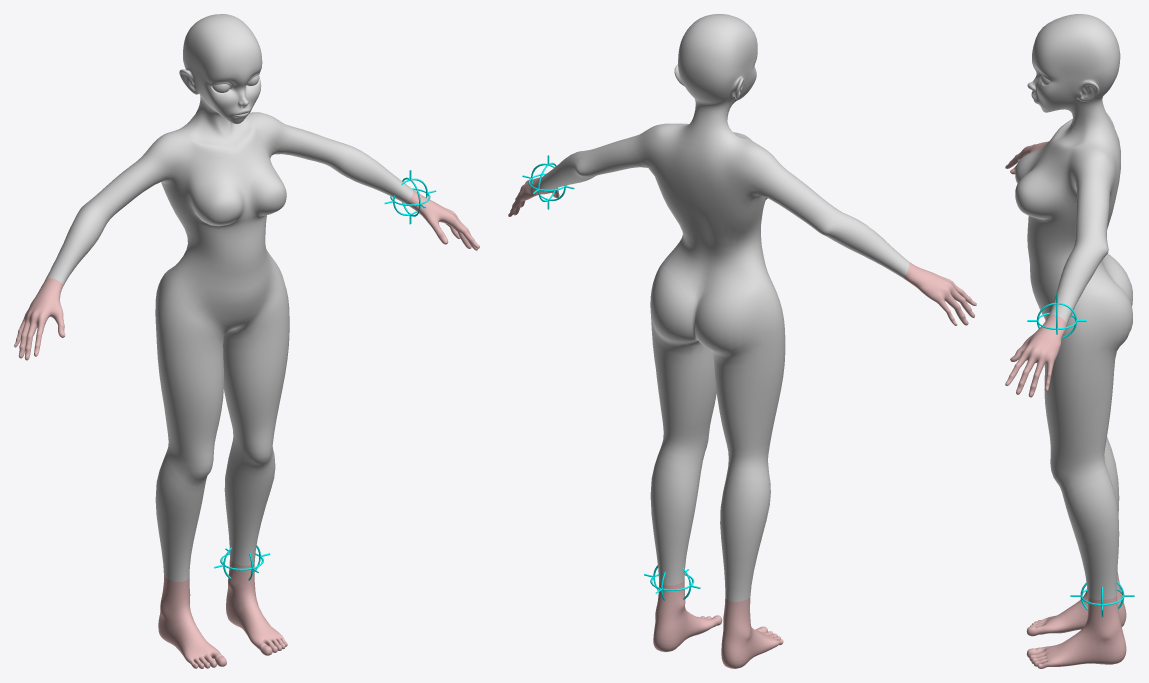
File: female.glb
3 views of the same model, side by side, from view 1: azimuth 30°, elevation 25°; view 2: azimuth 150°, elevation 25°; view 3: azimuth 270°, elevation 25° (orthographic).
Visible parts, largest first — view 1: Anime_Female_A; view 2: Anime_Female_A; view 3: Anime_Female_A, _Pt_Hand, _Pt_Foot.
Part boxes in pixels (x1,y1,x2,y2): Anime_Female_A: (14, 14, 479, 668); Anime_Female_A: (508, 14, 976, 668); Anime_Female_A: (1005, 14, 1132, 668); _Pt_Hand: (1027, 294, 1086, 338); _Pt_Foot: (1070, 581, 1134, 617).
Bounding box in the file's own units: 6.86 × 9.06 × 1.69.
